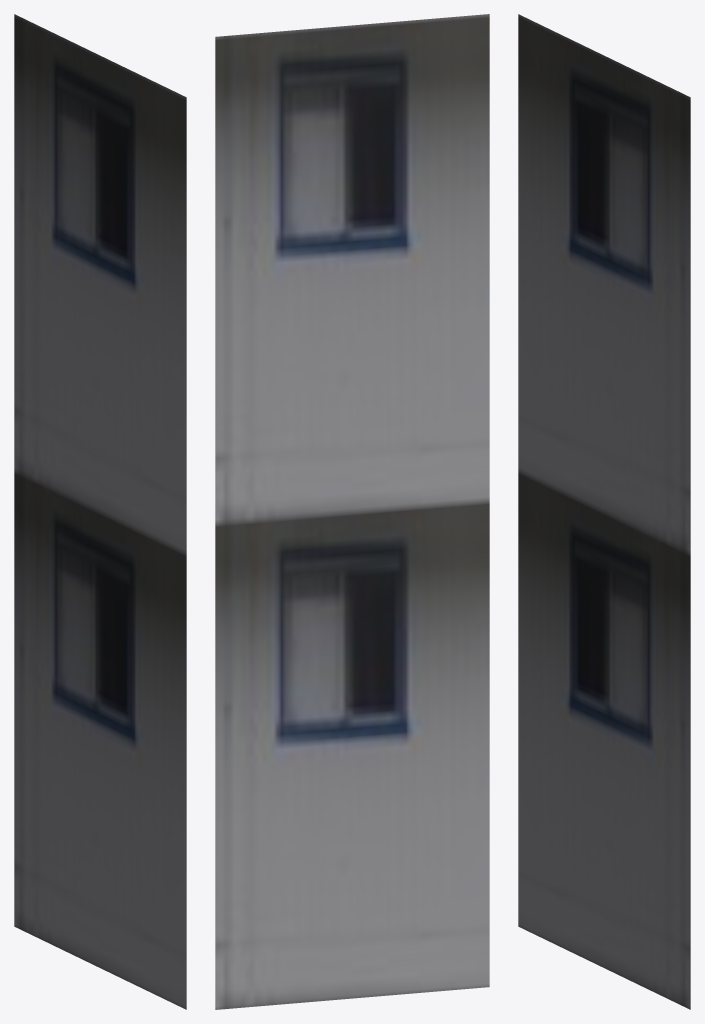
File: ResTex__2818.fbx
3 views of the same model, side by side, from view 1: azimuth 90°, elevation 25°; view 2: azimuth 150°, elevation 25°; view 3: azimuth 270°, elevation 25° (orthographic). The views are drawn at different scales.
Visible parts, largest first — view 1: CityEngineMaterial_9_m; view 2: CityEngineMaterial_9_m; view 3: CityEngineMaterial_9_m.
Part boxes in pixels (left/top/right/bottom): CityEngineMaterial_9_m: left=14, top=14, right=186, bottom=1009; CityEngineMaterial_9_m: left=215, top=14, right=489, bottom=1009; CityEngineMaterial_9_m: left=518, top=14, right=690, bottom=1009.
Bounding box in the file's own units: 1.18 × 6 × 1.03.
1 material, 1 textured.
